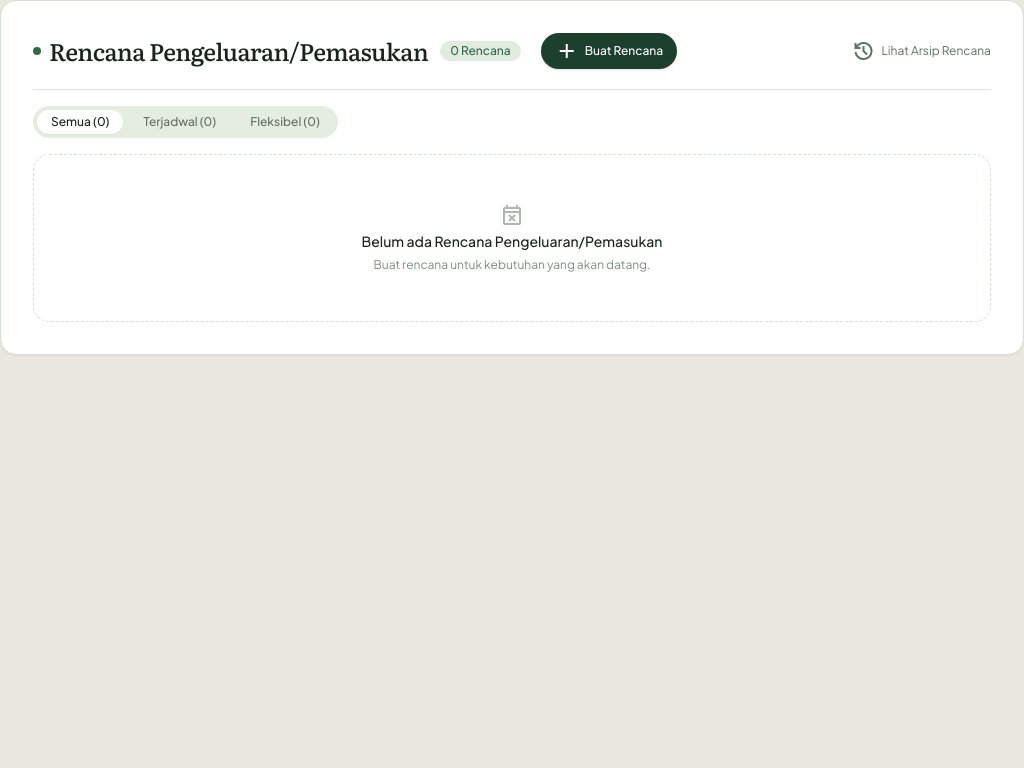
Test: Buat Rencana interaksi › menampilkan sumber aktual dan default pada arsip sesuai statusnya
This screenshot has width=1024, height=768.
Click the button "Lihat Arsip Rencana" at (921, 51), box x1=852 y1=35 x2=991 y2=67
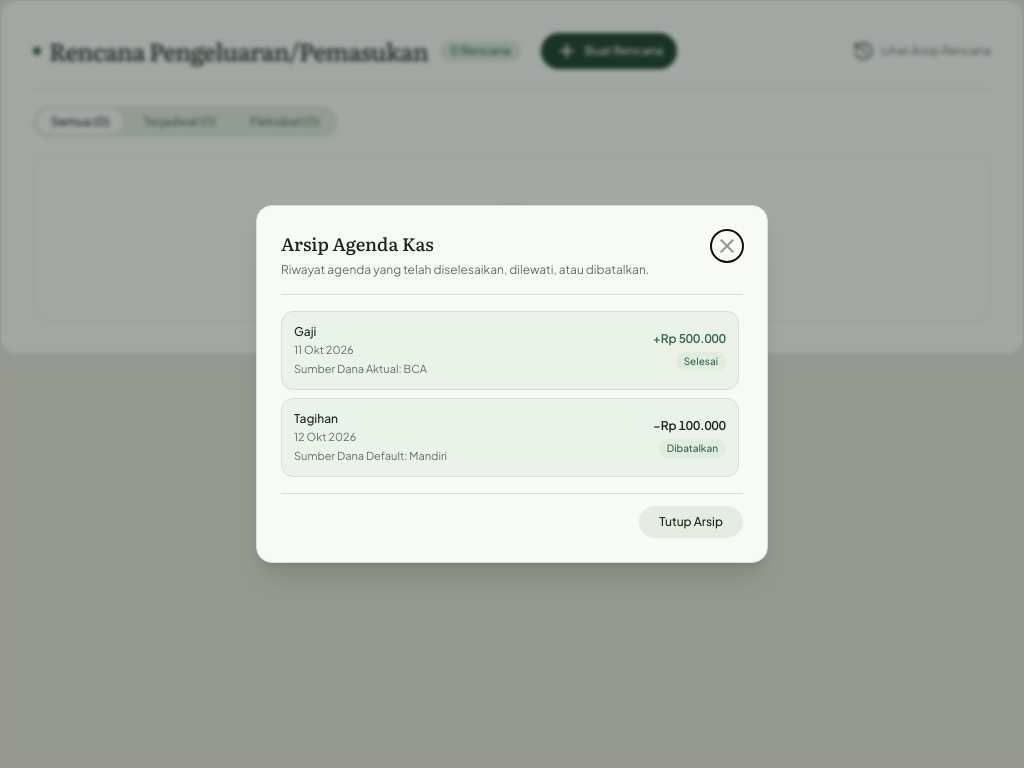
Result: the text "Sumber Dana Aktual: BCA" is shown at x1=294 y1=360 x2=427 y2=377
Result: the text "Sumber Dana Default: Mandiri" is shown at x1=294 y1=448 x2=447 y2=464
